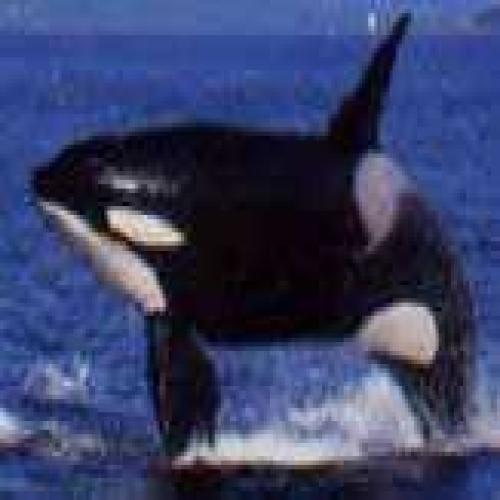killer_whale-endangered: (28, 89, 482, 380)
